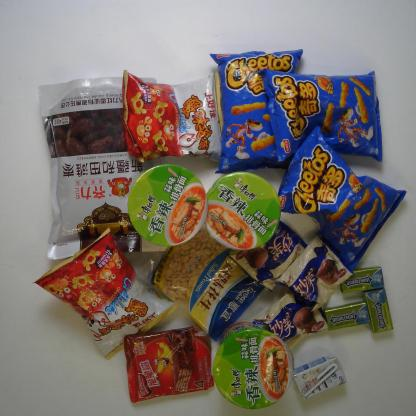Dessert: (122, 321, 216, 404), (270, 229, 358, 312), (226, 216, 309, 292), (252, 288, 332, 354)
Dried Food: (36, 74, 170, 260)
Dried Fruit: (135, 195, 280, 342)
Gum: (323, 301, 374, 333), (340, 263, 390, 295), (364, 287, 396, 334)
Instant Noodles: (209, 317, 295, 411), (127, 163, 209, 248), (199, 170, 282, 252)
Milk: (290, 354, 352, 401)
Puffed Food: (30, 224, 175, 361), (271, 126, 407, 270), (261, 67, 387, 163), (209, 50, 306, 173), (119, 68, 232, 163)
